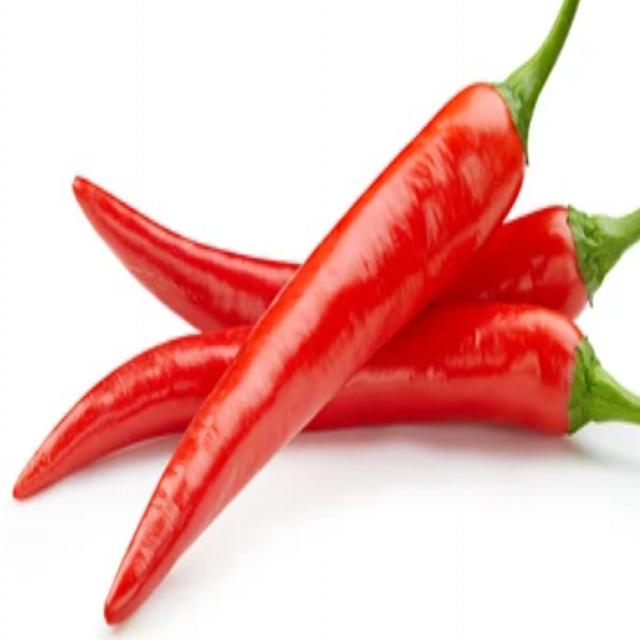red chili: (9, 21, 610, 624)
